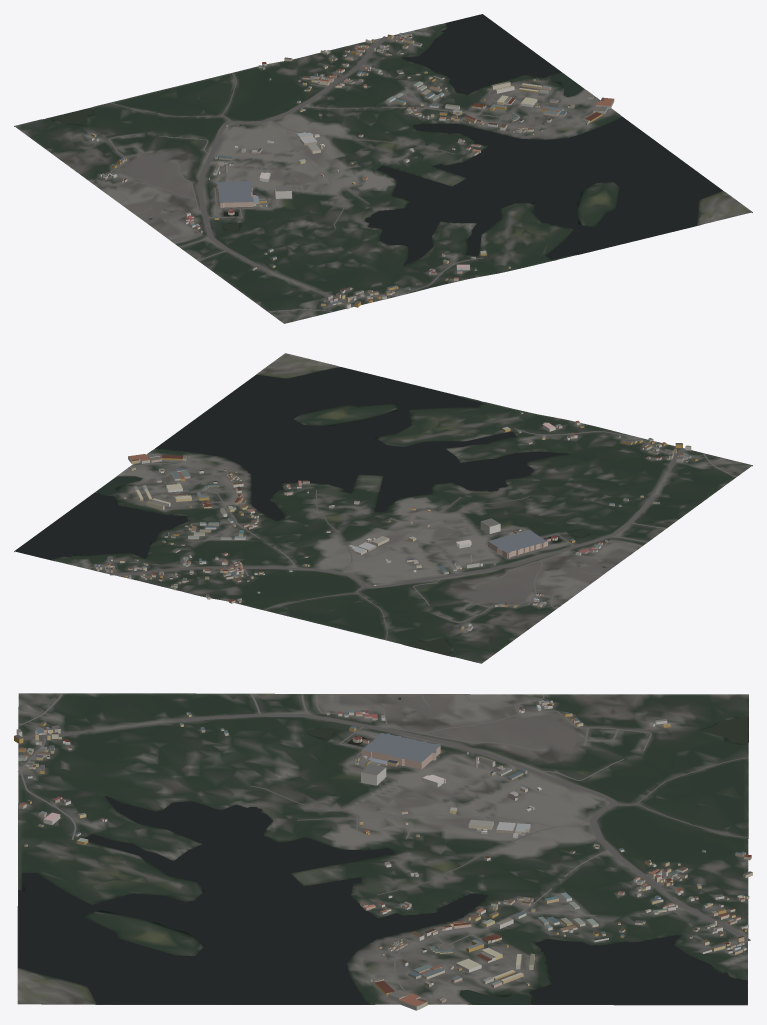
The picture shows the model from 3 angles, top to bottom: view 1: azimuth 30°, elevation 25°; view 2: azimuth 150°, elevation 25°; view 3: azimuth 270°, elevation 25°; orthographic projection. The views are drawn at different scales.
Visible parts, largest first — view 1: ground, water, buildings, roads; view 2: ground, water, buildings, roads; view 3: ground, water, buildings, roads.
Part boxes in pixels (x1,y1,x2,y2): ground: [14, 23, 752, 323]; water: [46, 14, 722, 265]; buildings: [86, 32, 614, 309]; roads: [90, 36, 597, 312]; ground: [14, 353, 752, 663]; water: [15, 367, 605, 655]; buildings: [94, 412, 697, 630]; roads: [110, 428, 736, 640]; ground: [17, 693, 748, 1005]; water: [18, 697, 748, 1004]; buildings: [14, 700, 752, 1010]; roads: [18, 693, 750, 1004].
Size of the model in its own units: 1427 by 30.66 by 1418.
